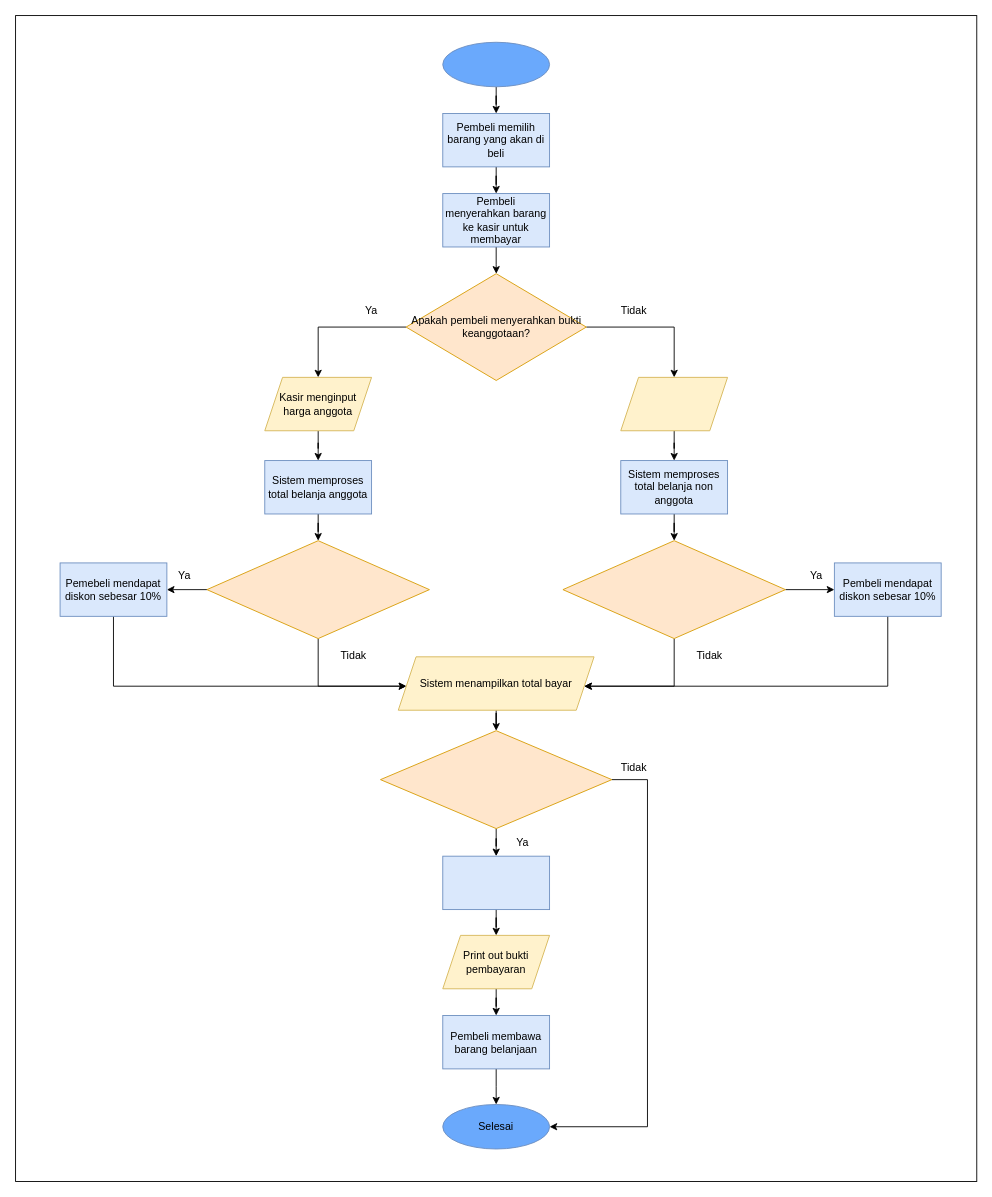
The diagram is 992 pixels wide and 1197 high, and some of its shapes have lost their labels. Here are the shapes that lost their labels. From the top down, the box of each, then its label:
(442, 41, 550, 87): Mulai
(620, 376, 728, 431): Kasir menginput harga non anggota
(206, 540, 429, 639): Apakah total harga lebih dari Rp 150.000?
(562, 540, 785, 639): Apakah total harga lebih dari Rp 300.000?
(380, 730, 612, 829): Apakah pembeli menyetujui pembayaran?
(442, 855, 550, 910): Pembeli membayar total belanja
